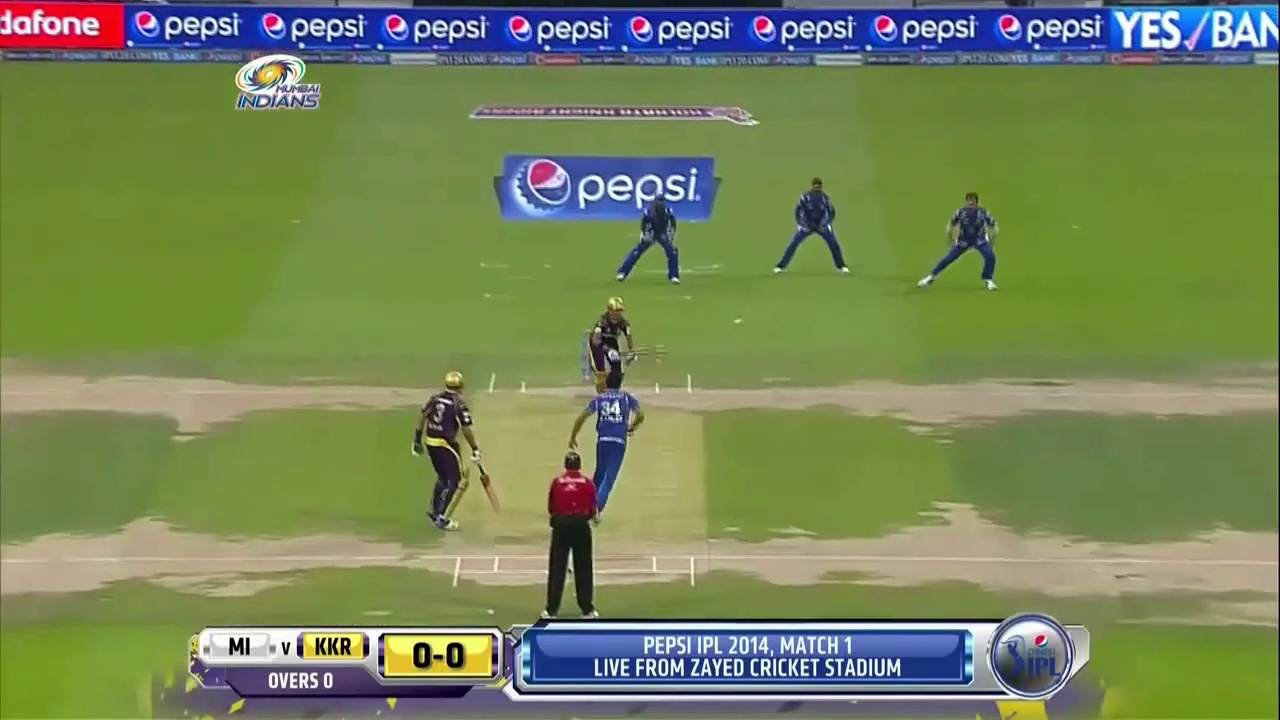bat: (477, 464, 503, 513)
